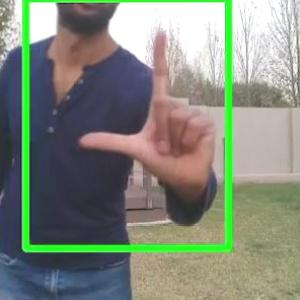land_hand: (77, 21, 221, 194)
